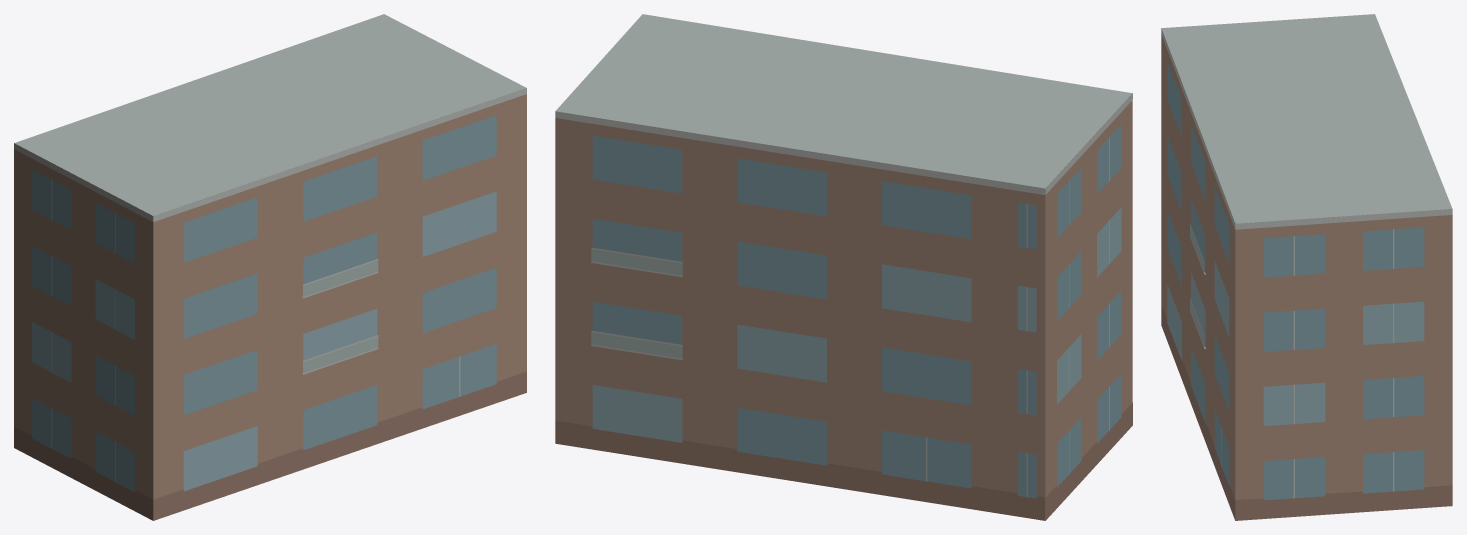
Rendered from survey-upis-32945999.glb.
The picture shows the model from 3 angles, left to right: view 1: azimuth 30°, elevation 25°; view 2: azimuth 150°, elevation 25°; view 3: azimuth 270°, elevation 25°; orthographic projection. The views are drawn at different scales.
Parts seen in each view (by area): view 1: survey-upis-32945999.tmp; view 2: survey-upis-32945999.tmp; view 3: survey-upis-32945999.tmp.
Part boxes in pixels (x1=…): survey-upis-32945999.tmp: x1=14, y1=14, x2=526, y2=520; survey-upis-32945999.tmp: x1=555, y1=14, x2=1132, y2=520; survey-upis-32945999.tmp: x1=1161, y1=14, x2=1452, y2=520.
Bounding box in the file's own units: 18.49 × 12.2 × 10.85.
